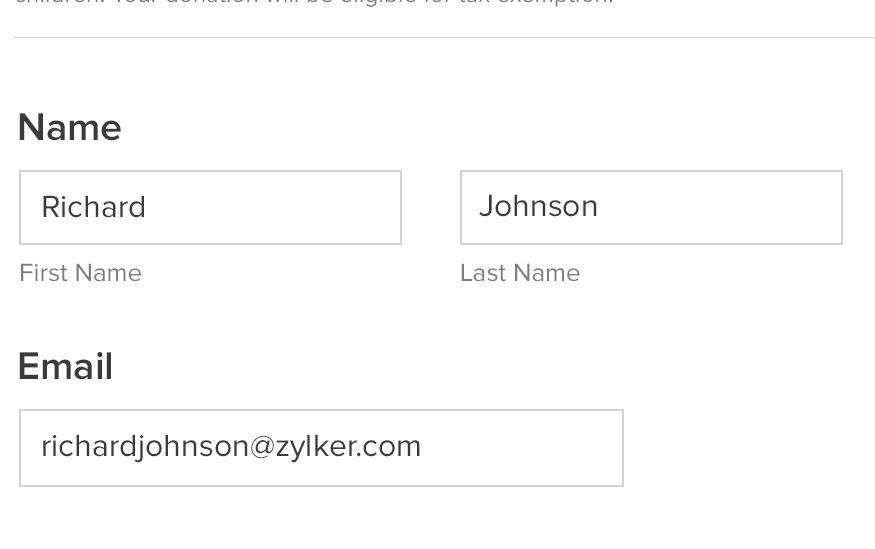field: (18, 410, 627, 490), (11, 169, 408, 249), (460, 169, 847, 251)
field_with_label: (13, 351, 636, 496), (4, 109, 413, 258), (453, 161, 855, 281)
